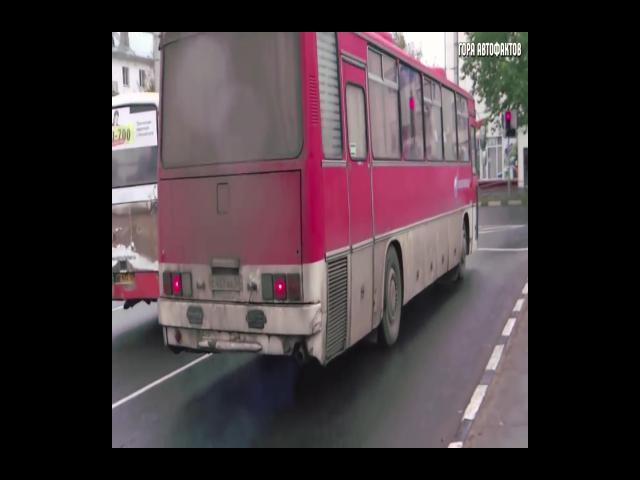bus: (156, 33, 483, 370), (112, 91, 203, 318)
